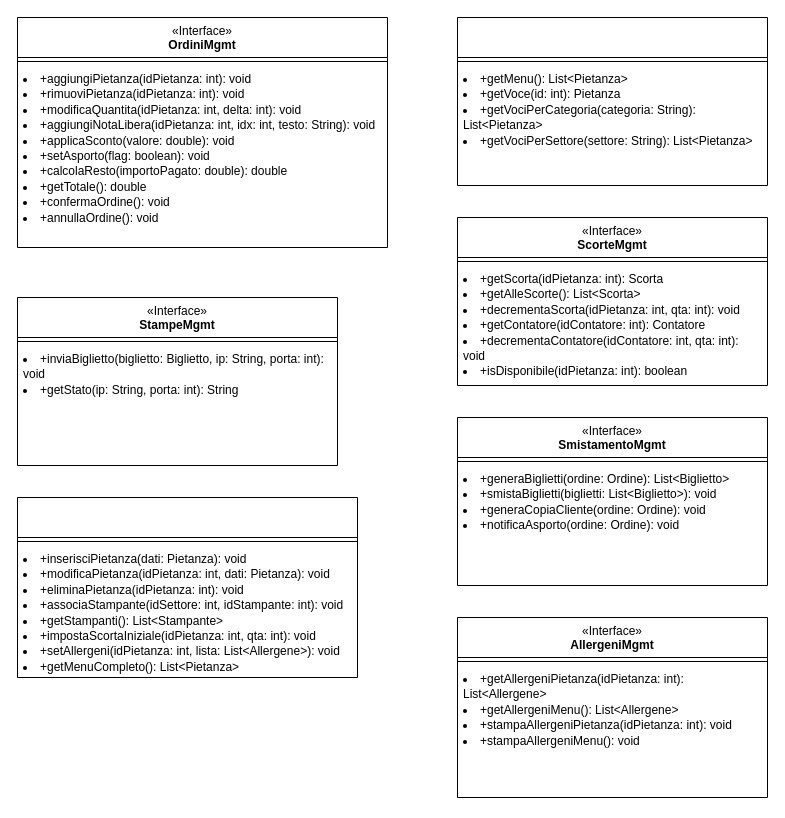
Image size: 785x818. Some labels were removed from this diagram. The box of each missing label's shape, as (x1, y1, x2, y2) in pixels:
«I nterface » ConfigurazioneMgmt: (16, 496, 358, 678)
«I nterface » MenuLettura: (456, 16, 768, 186)
